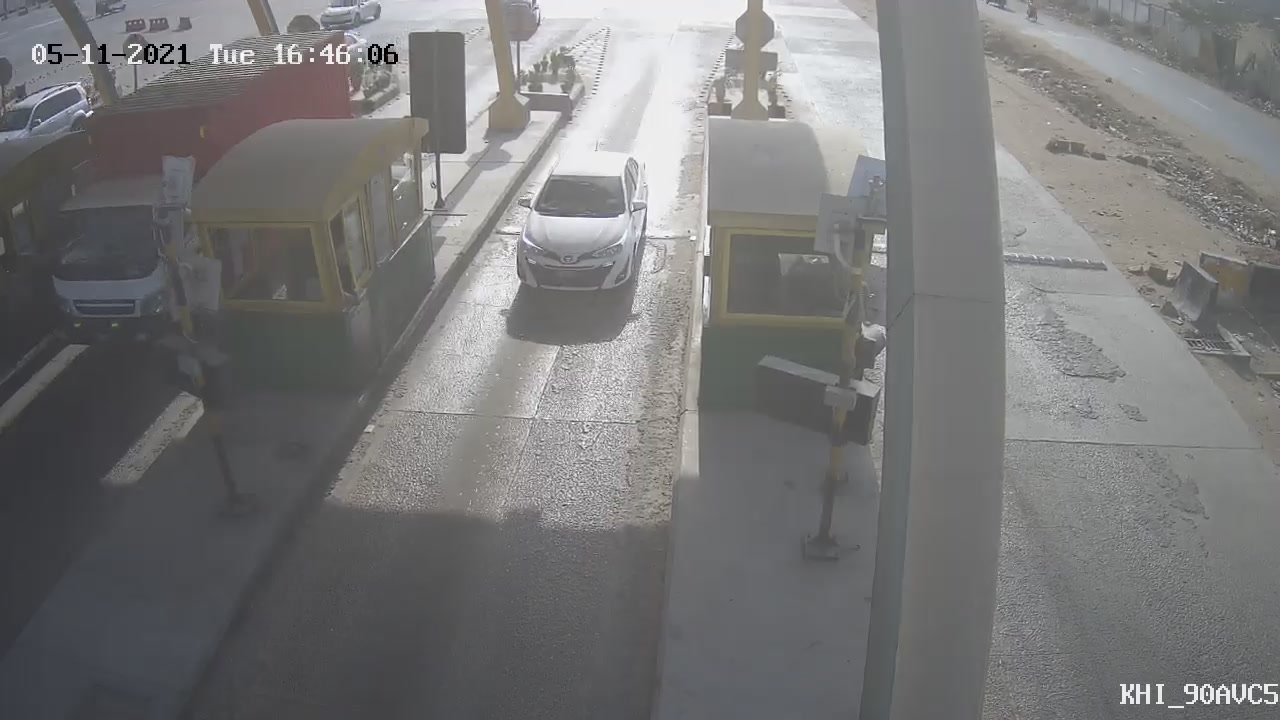F1: (495, 133, 665, 314)
